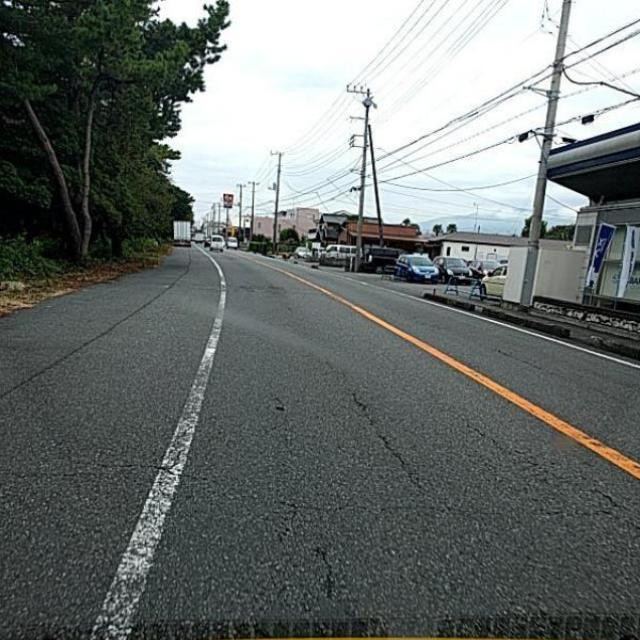Memanjang: (329, 368, 433, 497)
